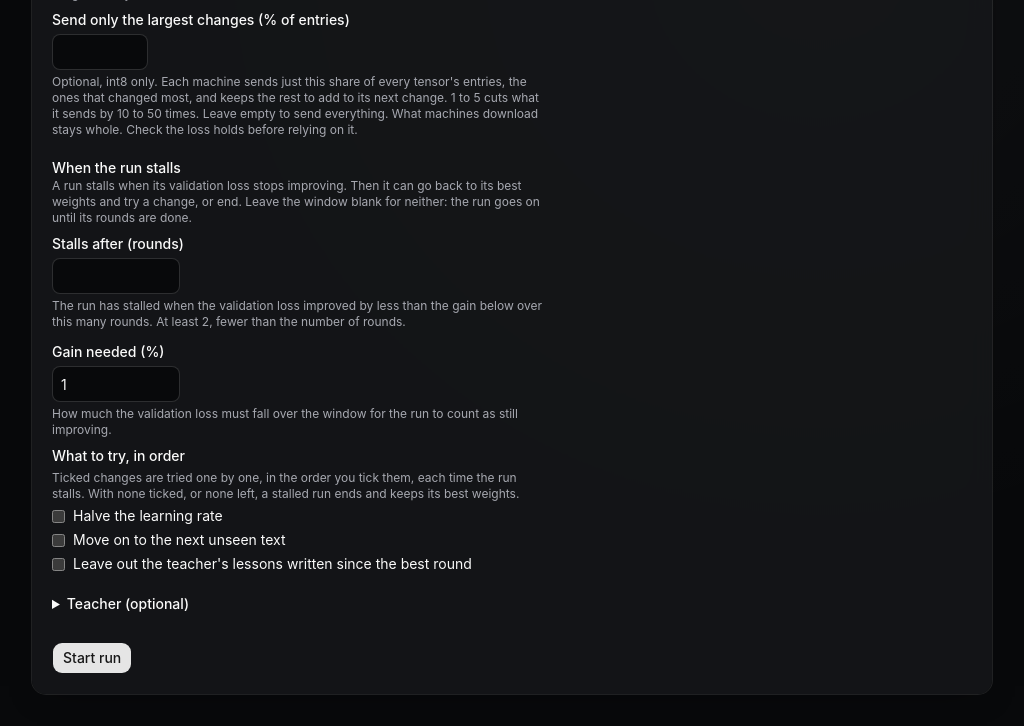
Test case: Training tab: the start form › says why when Ollama cannot be read
The width and height of the screenshot is (1024, 726).
(page scrolled)
Click the heading "Teacher (optional)" at x=128, y=604, box [67,595,189,612]
(page scrolled)
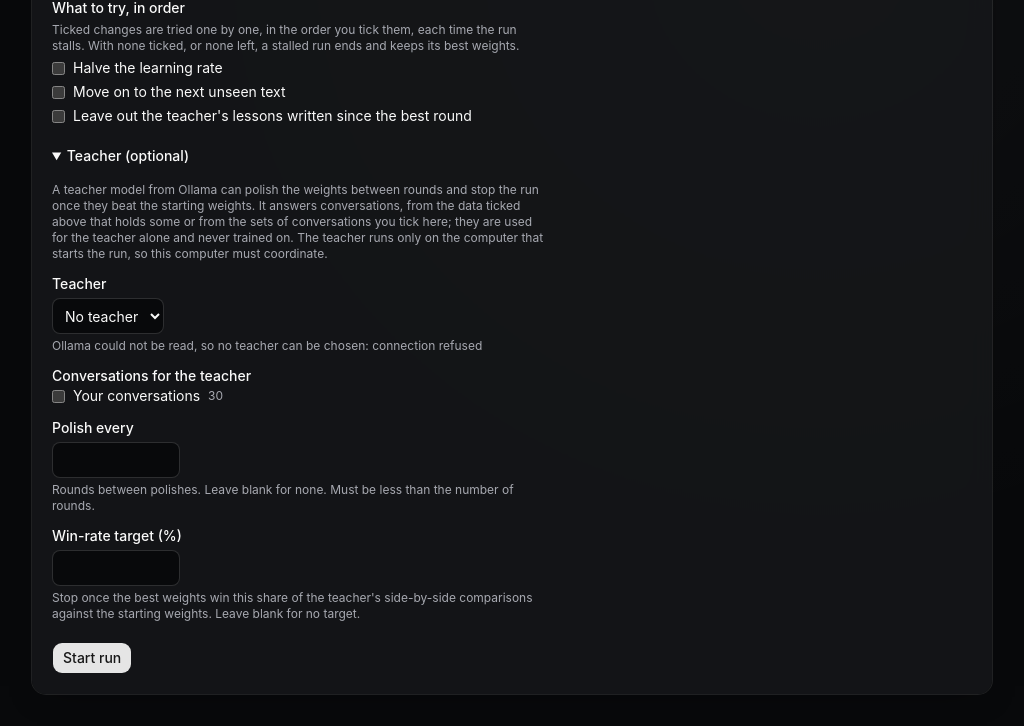
expect the text "Ollama could not be read, so no teacher can be chosen: connection refused" is shown: met, box [52,338,544,354]
